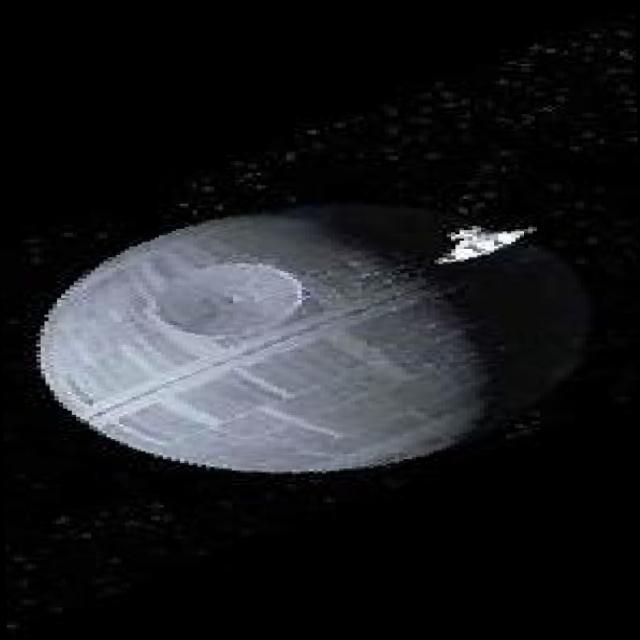Death Star: (20, 175, 618, 494)
